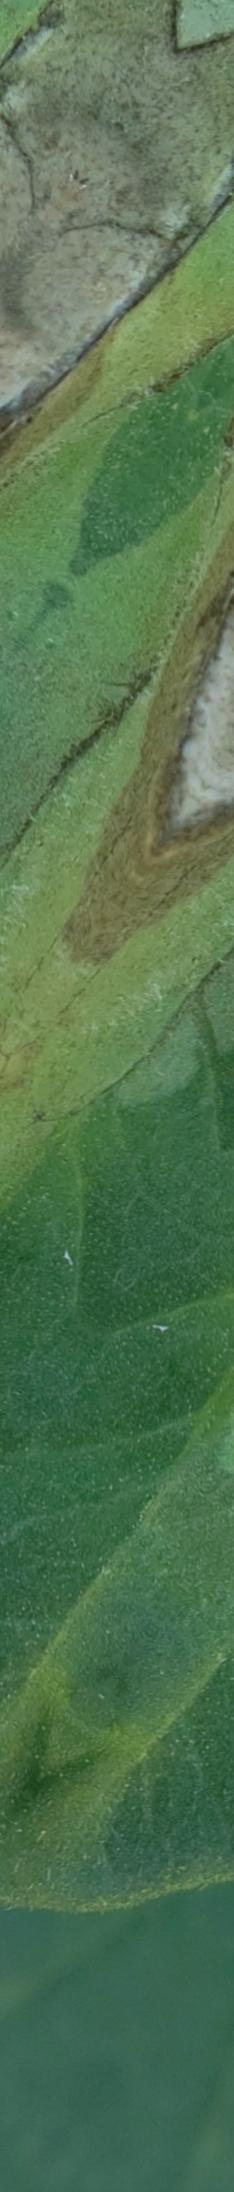Tomato leaf late blight: (0, 151, 234, 1957)
